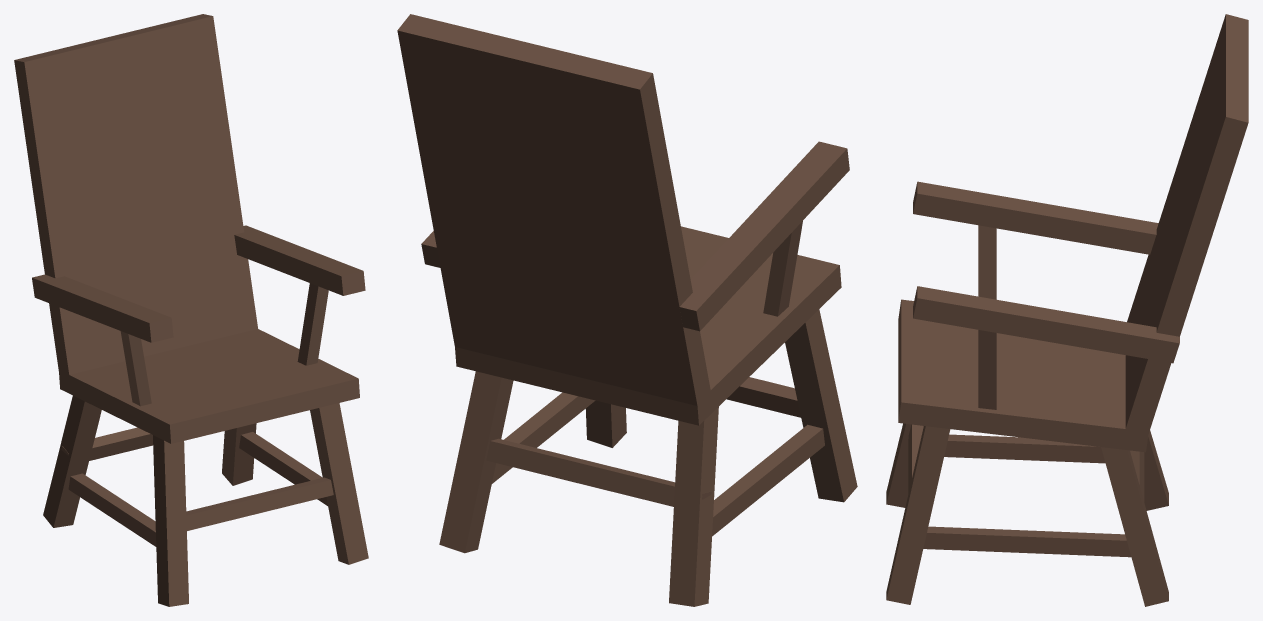
Rendered from TeacherChair.fbx.
3 renders of one model, left to right at view 1: azimuth 30°, elevation 25°; view 2: azimuth 150°, elevation 25°; view 3: azimuth 270°, elevation 25°, orthographic. The views are drawn at different scales.
Parts seen in each view (by area): view 1: Cube.009, Cube, Cube.002, Cube.001, Cube.011, Cube.010, Cube.003, Cube.007, Cube.006, Cube.005, Cube.012, Cube.004 (+2 smaller); view 2: Cube.009, Cube, Cube.011, Cube.003, Cube.002, Cube.004, Cube.008, Cube.006, Cube.005, Cube.013, Cube.007, Cube.001; view 3: Cube, Cube.009, Cube.010, Cube.011, Cube.001, Cube.005, Cube.004, Cube.006, Cube.012, Cube.013, Cube.002, Cube.003 (+1 smaller).
Part boxes in pixels (x1=…): Cube.009: x1=14, y1=14, x2=257, y2=379; Cube: x1=59, y1=329, x2=359, y2=443; Cube.002: x1=153, y1=435, x2=188, y2=606; Cube.001: x1=310, y1=403, x2=368, y2=564; Cube.011: x1=32, y1=274, x2=173, y2=342; Cube.010: x1=234, y1=225, x2=365, y2=295; Cube.003: x1=43, y1=395, x2=101, y2=527; Cube.007: x1=186, y1=477, x2=333, y2=530; Cube.006: x1=68, y1=473, x2=156, y2=546; Cube.005: x1=239, y1=432, x2=327, y2=505; Cube.012: x1=297, y1=283, x2=328, y2=365; Cube.004: x1=222, y1=423, x2=256, y2=485; Cube.009: x1=397, y1=14, x2=710, y2=412; Cube: x1=455, y1=226, x2=841, y2=425; Cube.011: x1=679, y1=141, x2=849, y2=331; Cube.003: x1=669, y1=407, x2=718, y2=606; Cube.002: x1=785, y1=309, x2=857, y2=502; Cube.004: x1=439, y1=371, x2=513, y2=553; Cube.008: x1=486, y1=438, x2=711, y2=506; Cube.006: x1=712, y1=424, x2=824, y2=536; Cube.005: x1=492, y1=392, x2=595, y2=483; Cube.013: x1=763, y1=221, x2=802, y2=316; Cube.007: x1=726, y1=377, x2=801, y2=417; Cube.001: x1=585, y1=400, x2=626, y2=447; Cube: x1=898, y1=299, x2=1148, y2=452; Cube.009: x1=1125, y1=14, x2=1248, y2=440; Cube.010: x1=913, y1=286, x2=1179, y2=363; Cube.011: x1=913, y1=181, x2=1158, y2=254; Cube.001: x1=886, y1=426, x2=950, y2=604; Cube.005: x1=923, y1=526, x2=1131, y2=557; Cube.004: x1=1101, y1=447, x2=1168, y2=606; Cube.006: x1=944, y1=434, x2=1105, y2=463; Cube.012: x1=978, y1=330, x2=996, y2=409; Cube.013: x1=978, y1=225, x2=996, y2=299; Cube.002: x1=886, y1=423, x2=911, y2=507; Cube.003: x1=1144, y1=430, x2=1168, y2=510.
Bounding box in the file's own units: 357 × 700 × 469.
